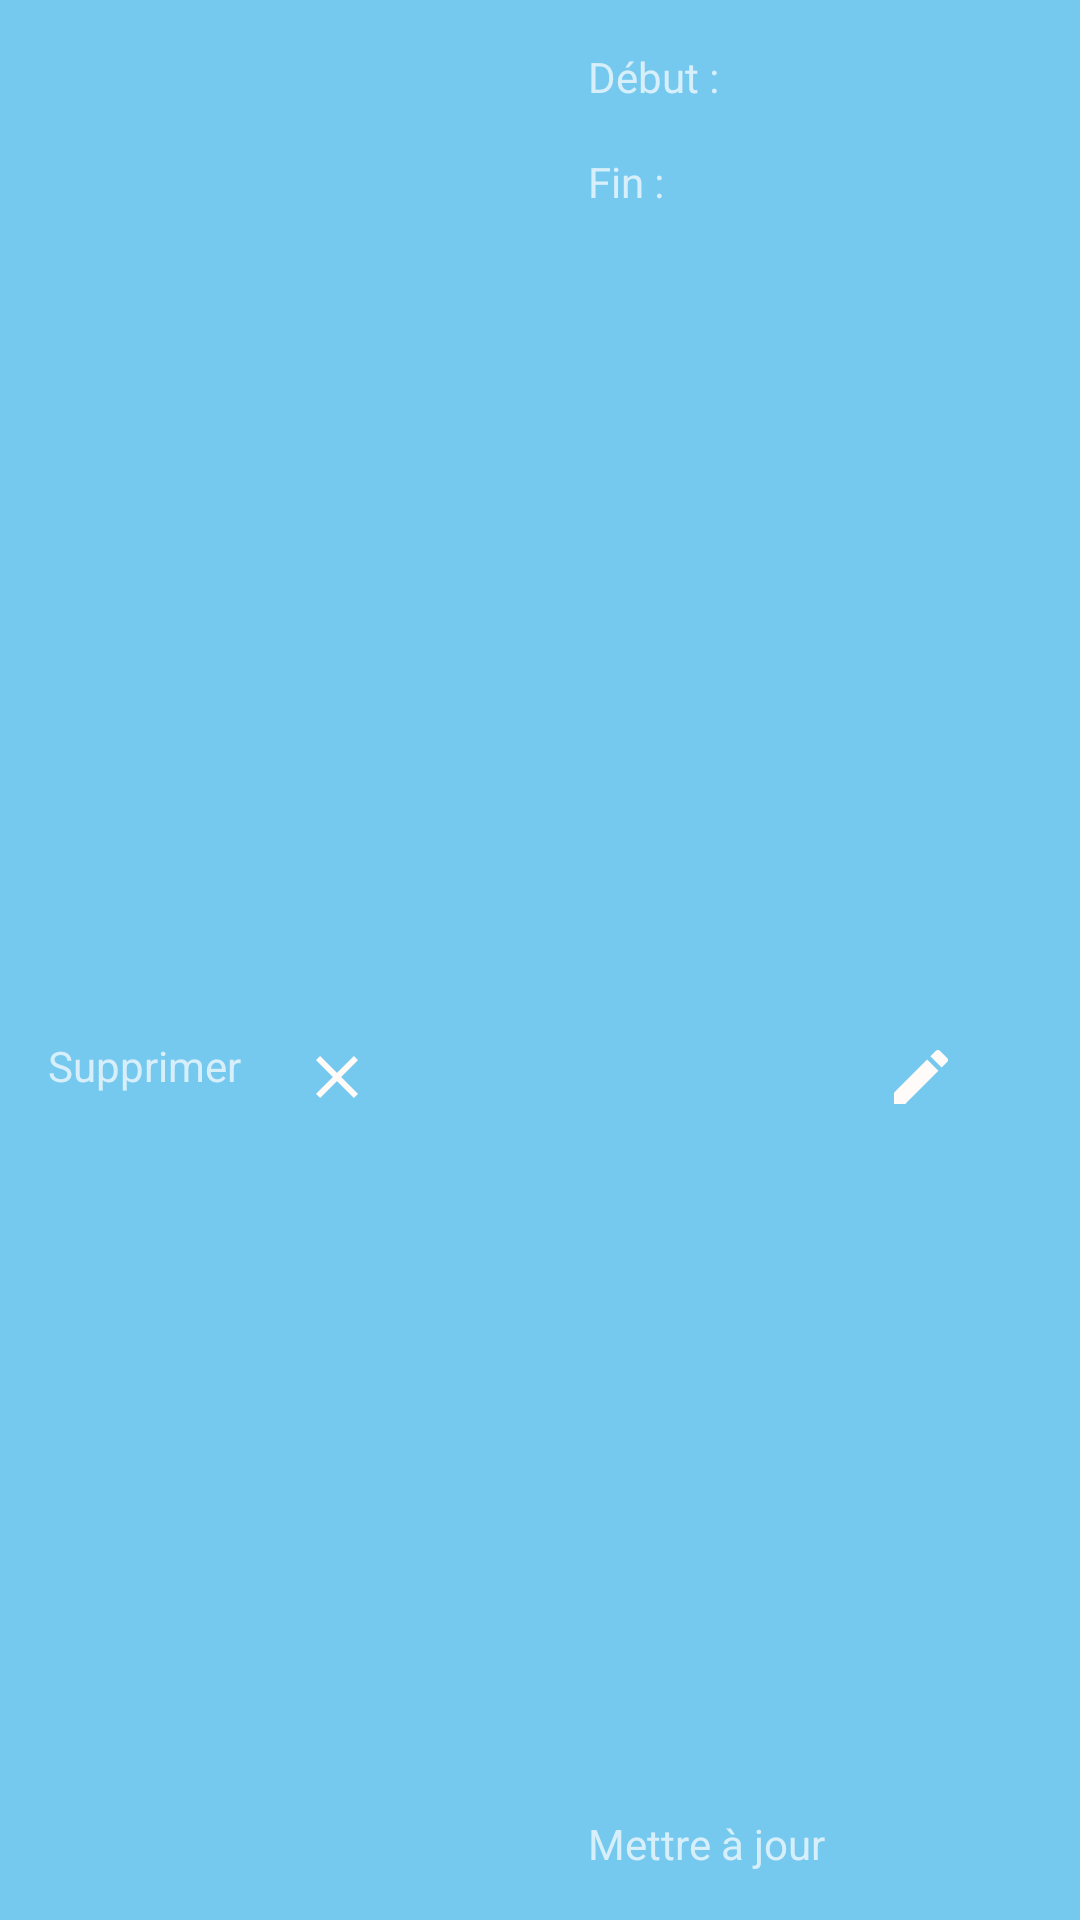

Screen size 1080x1920. Icon name, then its box in pixels as (x1, y1, x2, y2):
clear: (316, 1056, 358, 1098)
mode edit: (894, 1050, 948, 1104)
